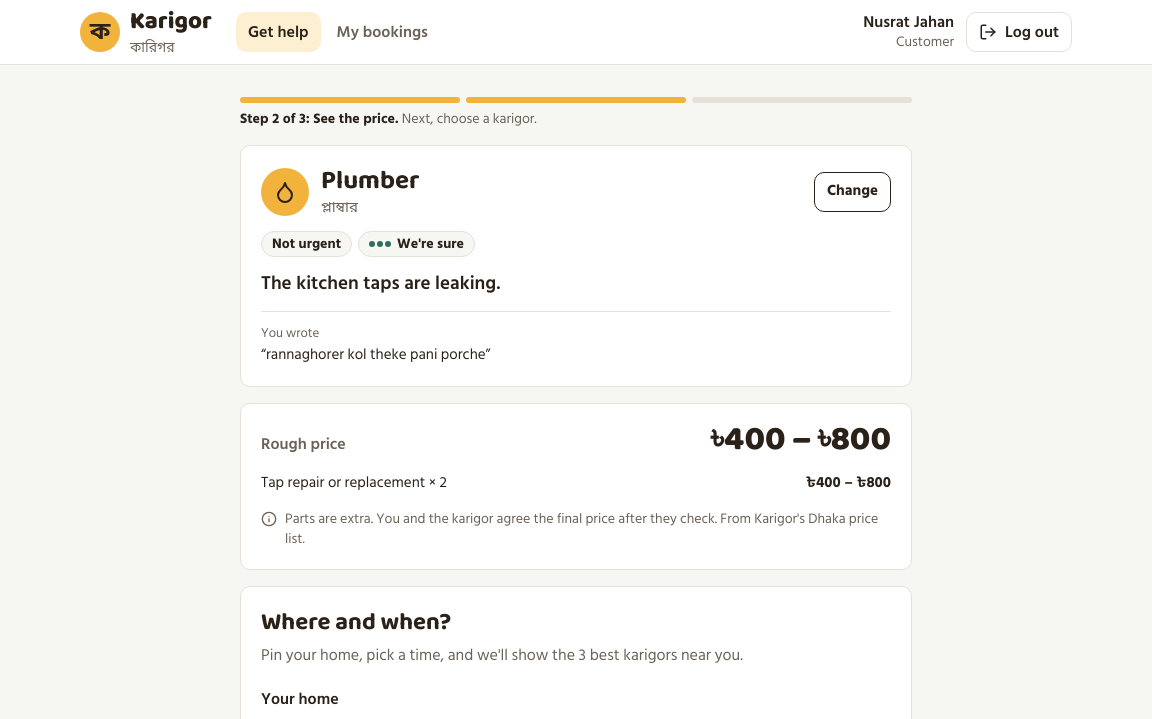
it: result page › shows why a change did not save
Click the button with aria-label "Change service": x=852, y=192 [814,172,891,212]
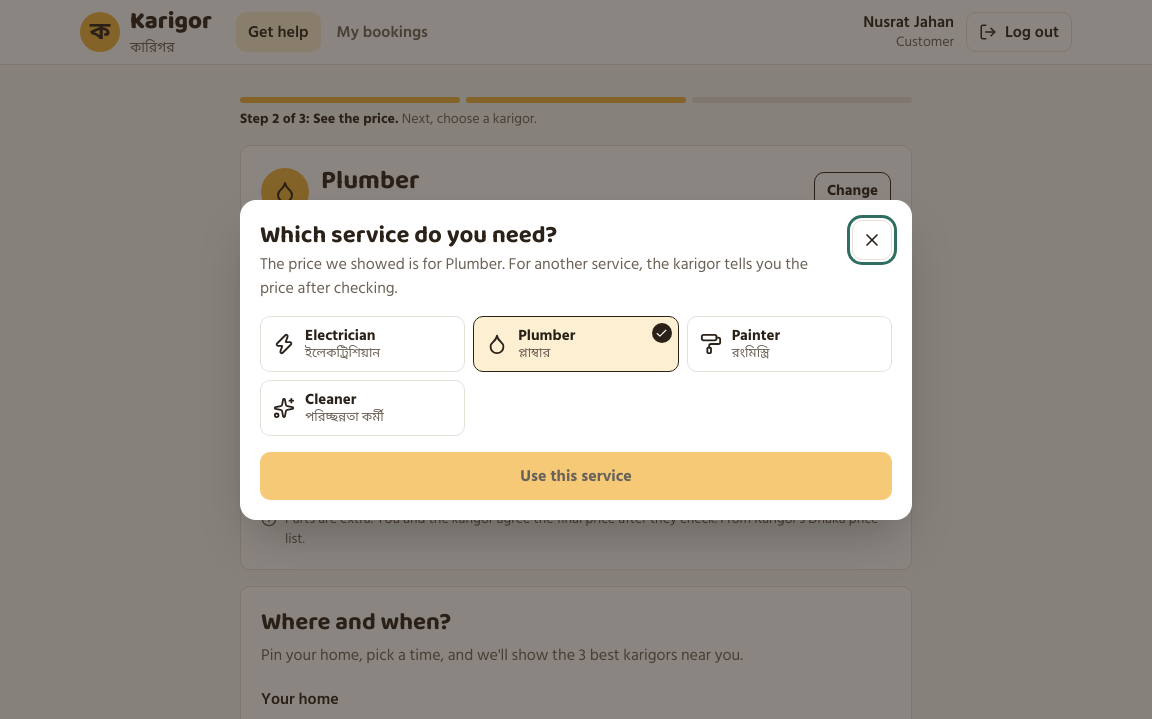
Click the button "Cleaner পরিচ্ছন্নতা কর্মী": x=363, y=408 [260,380,465,436]
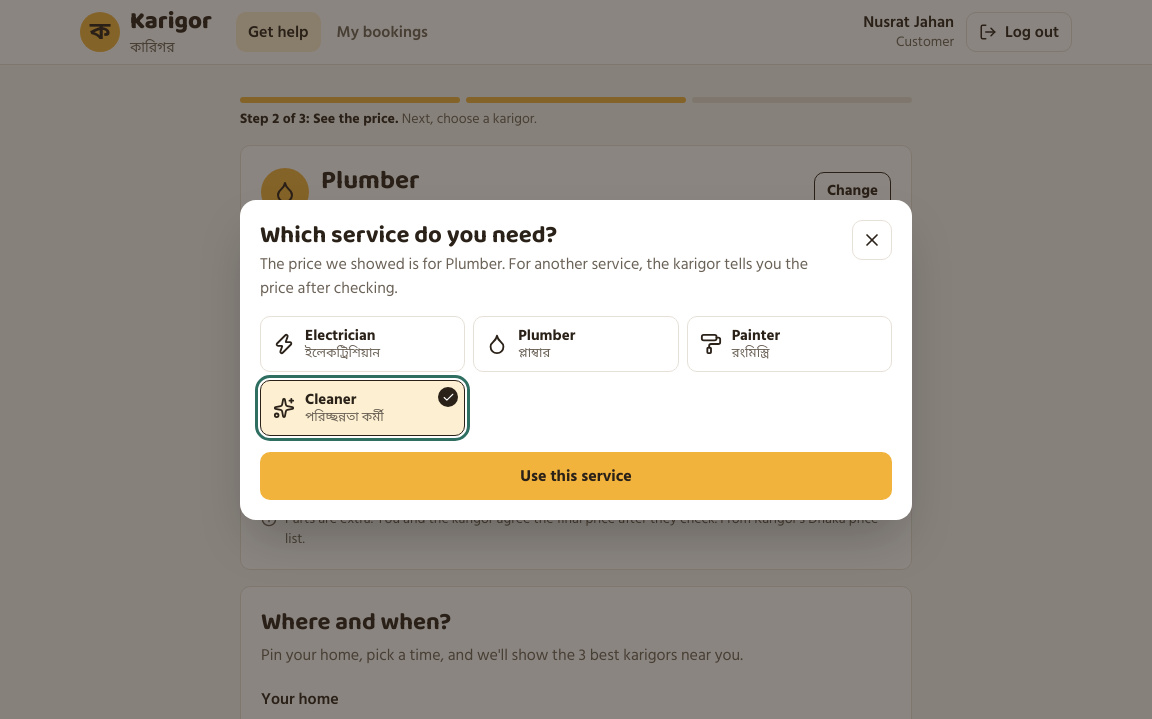
Click the button "Use this service": x=576, y=476 [260,452,892,500]
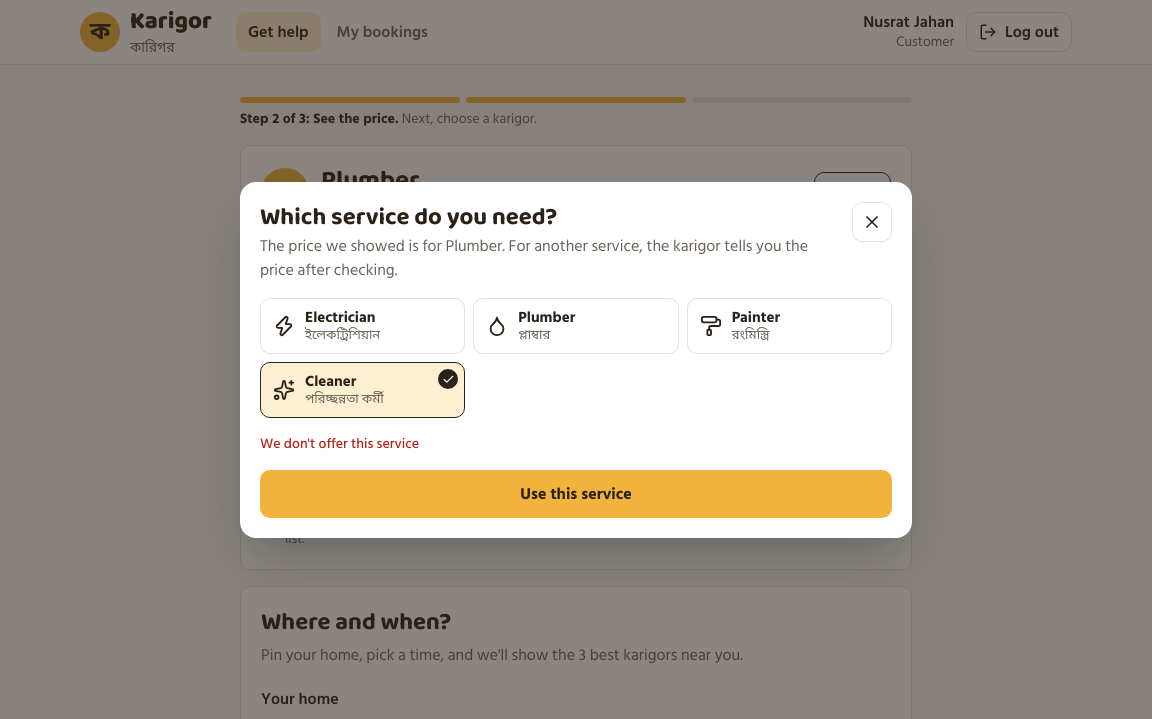
Result: the text "We don't offer this service" is shown at [260,432,419,455]
